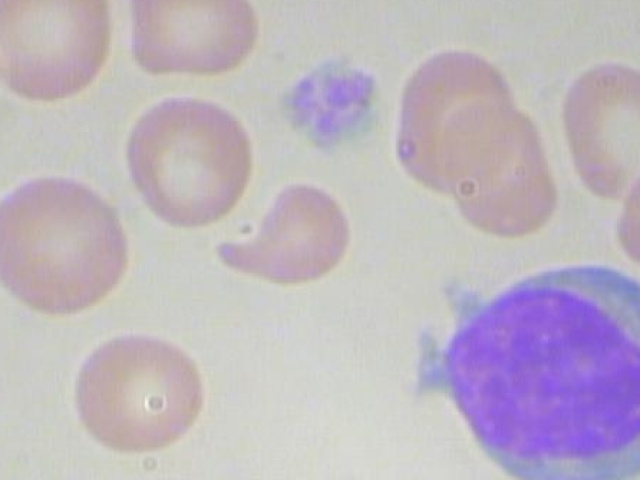RBC: (112, 87, 269, 236), (0, 168, 143, 331), (56, 329, 220, 457), (383, 42, 519, 191), (211, 160, 362, 289), (123, 0, 275, 85), (0, 0, 124, 104), (554, 56, 640, 204), (617, 128, 640, 277), (96, 472, 257, 480)
WBC: (399, 260, 640, 480)
